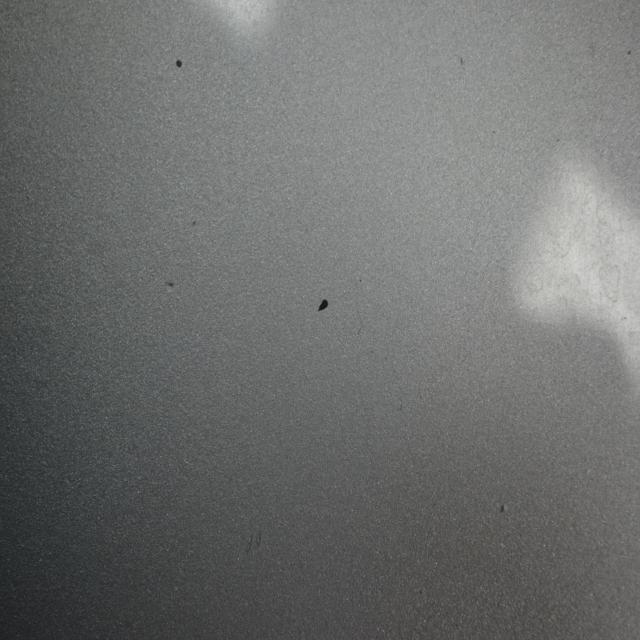dirt: (242, 528, 267, 564), (162, 272, 176, 295), (317, 294, 331, 314), (498, 499, 508, 520), (188, 212, 197, 232), (626, 46, 634, 62), (175, 55, 184, 69), (458, 55, 464, 66)
water marks: (518, 225, 581, 305), (578, 176, 624, 249), (596, 256, 624, 308)
